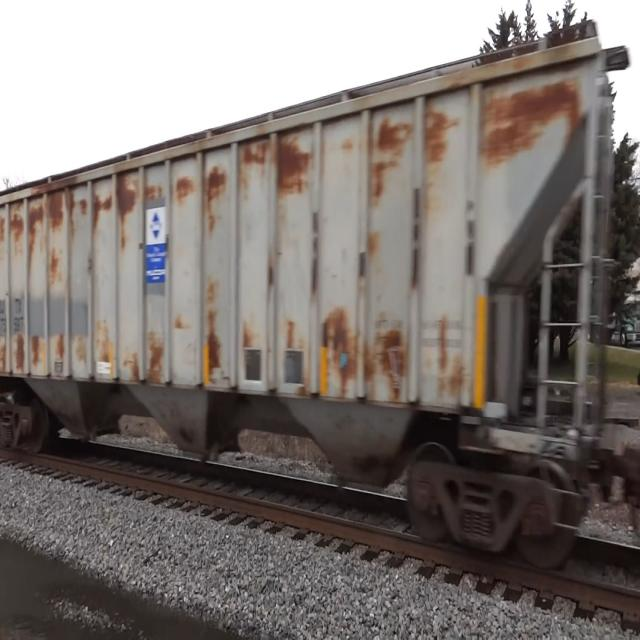hopper: (1, 17, 634, 506)
